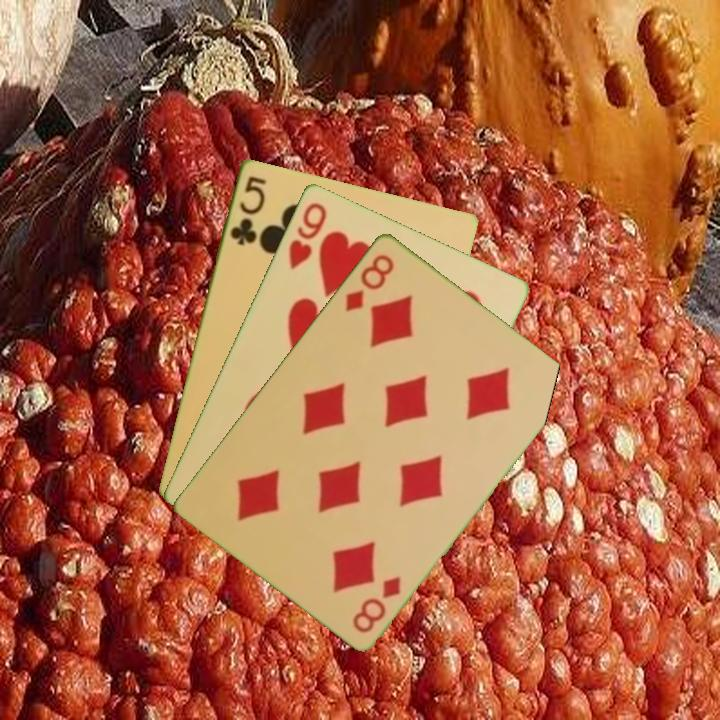5c: (226, 171, 269, 248)
8d: (348, 571, 404, 636), (341, 250, 397, 314)
9h: (284, 198, 330, 272)
